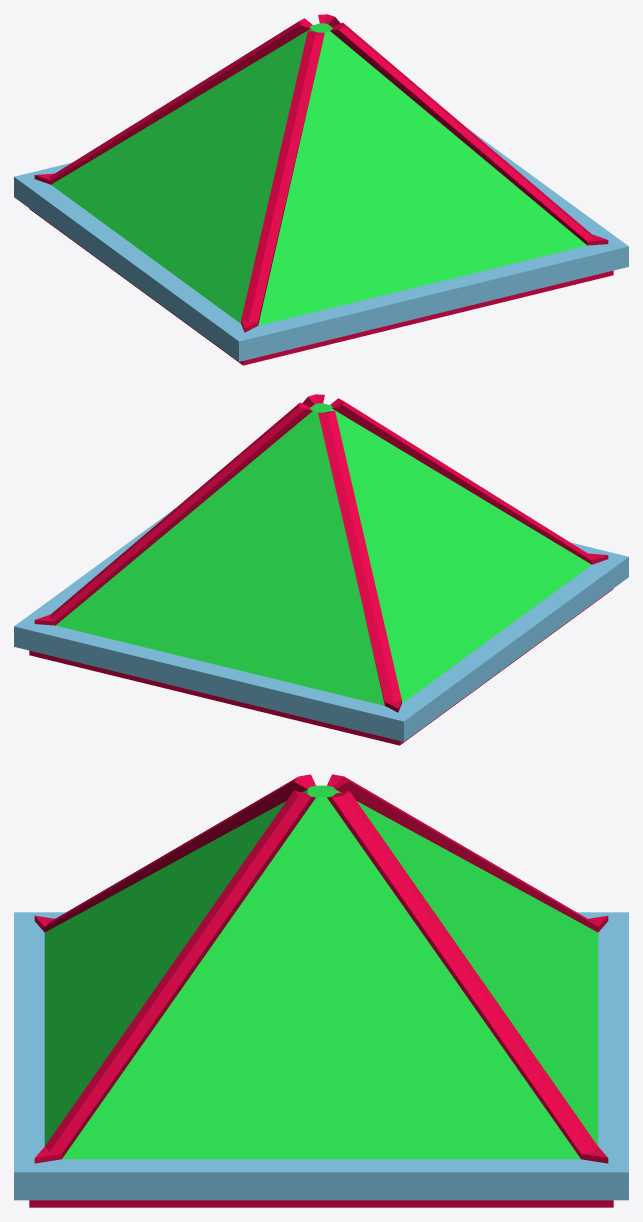
File: Playground Roof.fbx
The picture shows the model from 3 angles, top to bottom: view 1: azimuth 30°, elevation 25°; view 2: azimuth 150°, elevation 25°; view 3: azimuth 270°, elevation 25°; orthographic projection. The views are drawn at different scales.
Visible parts, largest first — view 1: Playground Roof; view 2: Playground Roof; view 3: Playground Roof.
Part boxes in pixels (left/top/right/bottom): Playground Roof: left=14, top=14, right=628, bottom=365; Playground Roof: left=14, top=394, right=628, bottom=745; Playground Roof: left=14, top=774, right=628, bottom=1207.
Bounding box in the file's own units: 400 × 214 × 400.
